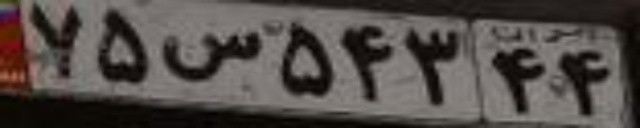3: (404, 26, 464, 106)
4: (340, 25, 394, 101), (554, 49, 614, 117), (488, 45, 547, 114)
5: (274, 22, 339, 97), (91, 8, 148, 81)
7: (27, 0, 85, 81)
sin: (157, 28, 270, 82)
